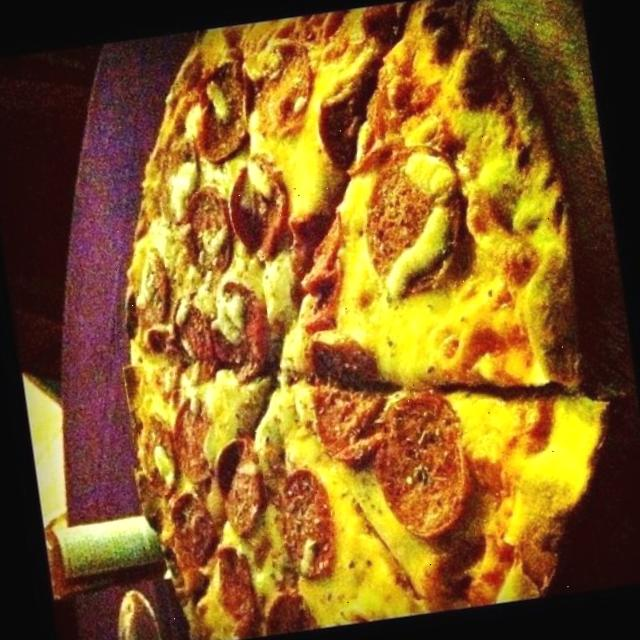pepperoni: (356, 139, 471, 297), (368, 388, 477, 540), (297, 332, 390, 469), (275, 207, 355, 327), (309, 84, 395, 184), (204, 274, 276, 386), (272, 464, 340, 581), (191, 54, 260, 168), (241, 36, 321, 134), (224, 152, 292, 259), (208, 431, 272, 541), (148, 126, 208, 233), (206, 542, 265, 640), (176, 190, 236, 282), (165, 395, 222, 488), (166, 297, 219, 388), (168, 492, 224, 564), (137, 414, 185, 496), (134, 250, 174, 330), (259, 586, 314, 640)
pizza: (128, 0, 608, 640)
